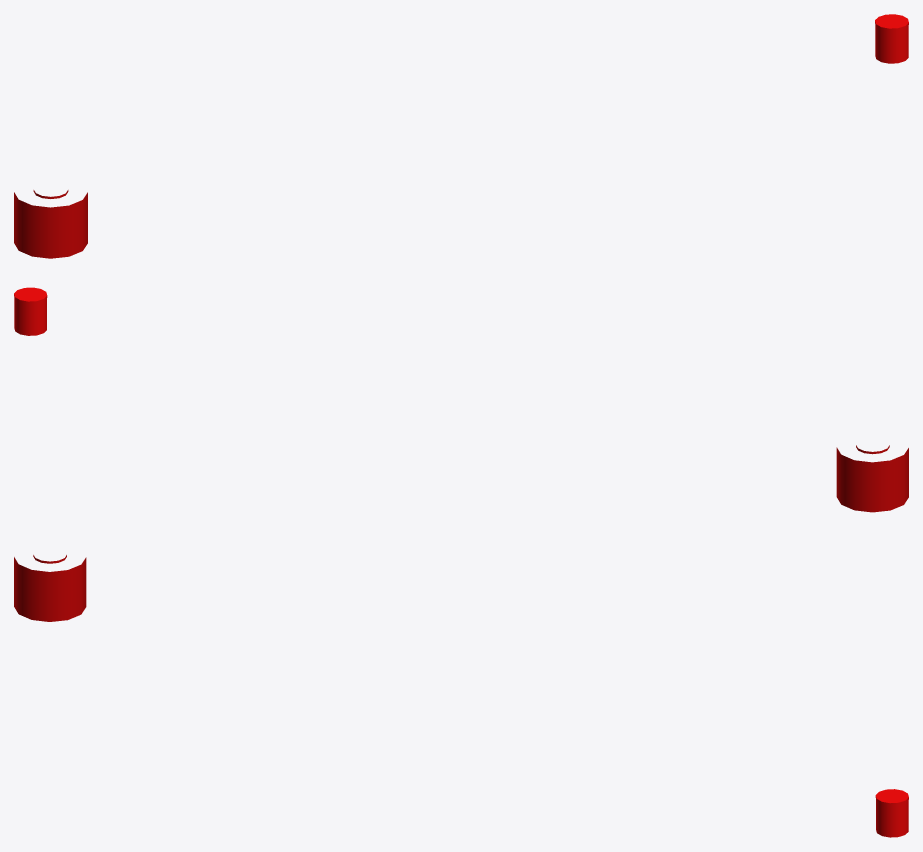
The picture shows the model from 3 angles, top to bottom: view 1: azimuth 30°, elevation 25°; view 2: azimuth 150°, elevation 25°; view 3: azimuth 330°, elevation 25°; orthographic projection. The views are drawn at different scales.
Visible parts, largest first — view 1: 58, 178; view 2: 58, 178; view 3: 58, 178.
Boxes of the visible parts, <box> form: 58: <box>14,190,87,258</box>; 178: <box>875,14,908,63</box>; 58: <box>836,445,908,512</box>; 178: <box>14,287,47,335</box>; 58: <box>14,555,86,621</box>; 178: <box>875,789,908,837</box>.
Bounding box in the file's own units: 20.64 × 1.8 × 1.47.
